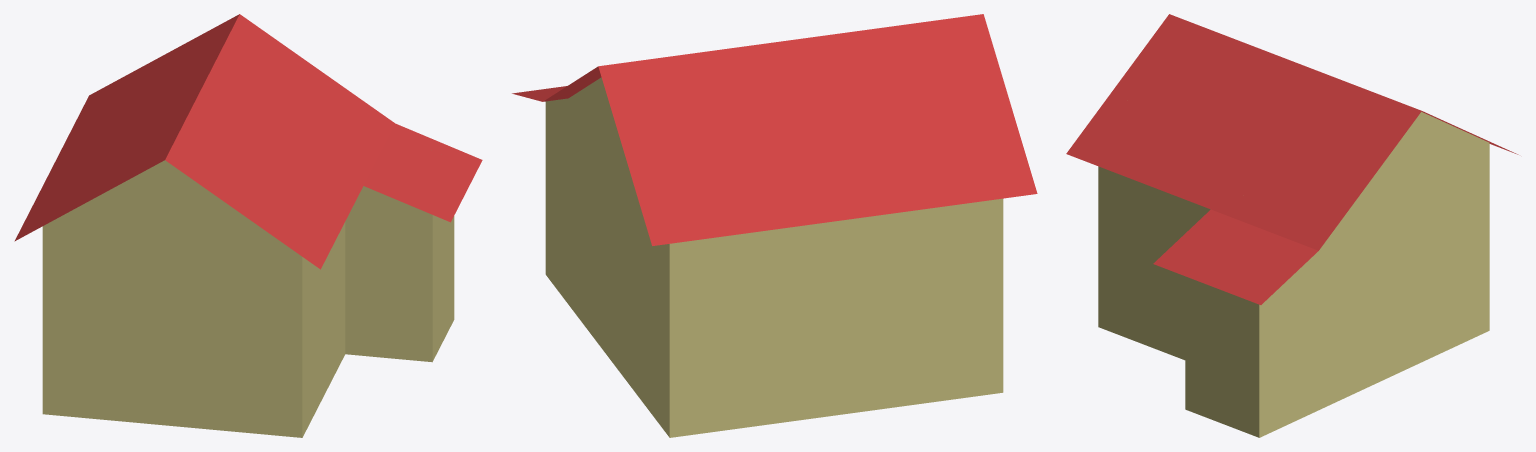
The picture shows the model from 3 angles, left to right: view 1: azimuth 30°, elevation 25°; view 2: azimuth 150°, elevation 25°; view 3: azimuth 270°, elevation 25°; orthographic projection. The views are drawn at different scales.
Size of the model in its own units: 16.92 by 14.92 by 9.6.
